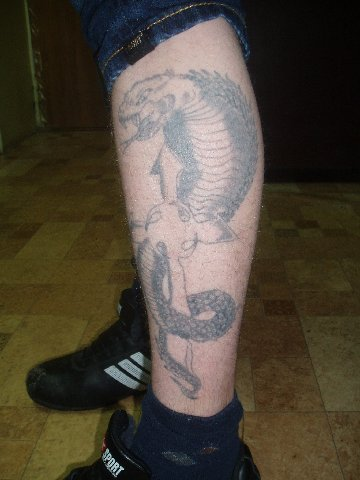tatu7_zmeya: (114, 63, 254, 403)
tatu9_krest: (120, 138, 243, 339)
